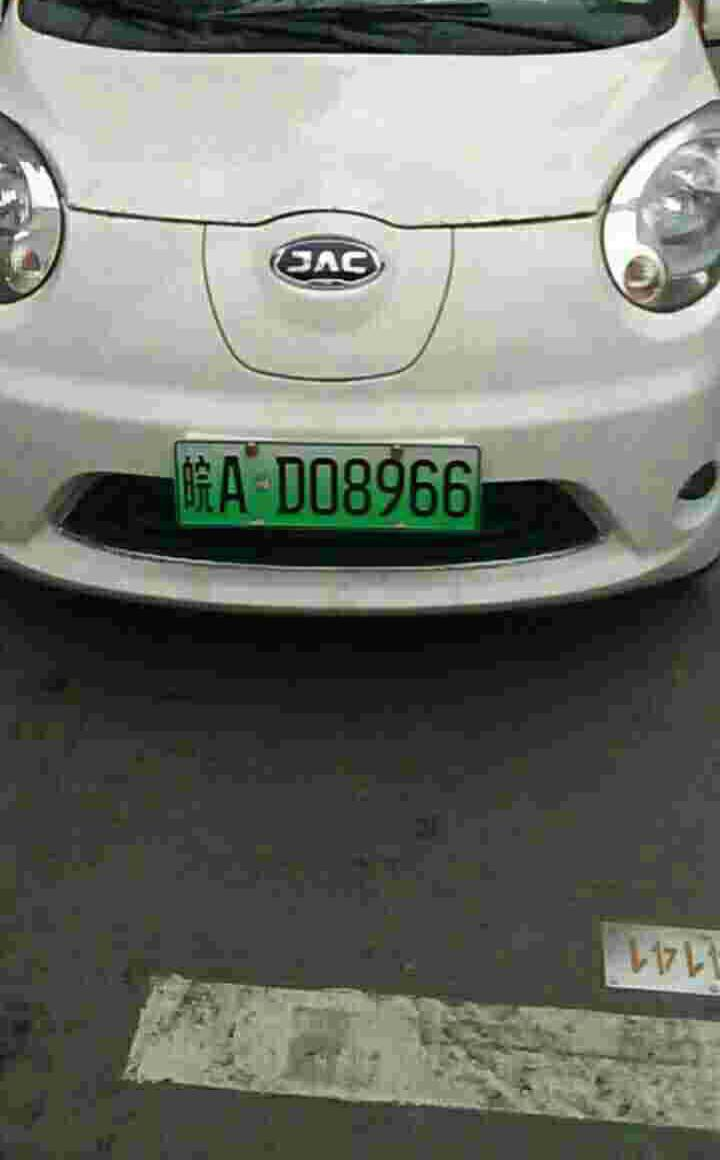car: (167, 428, 488, 536)
